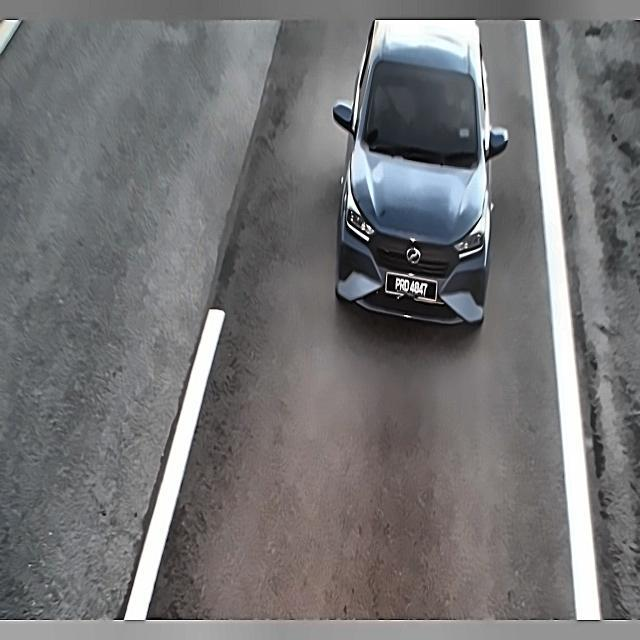car: (384, 269, 439, 307)
